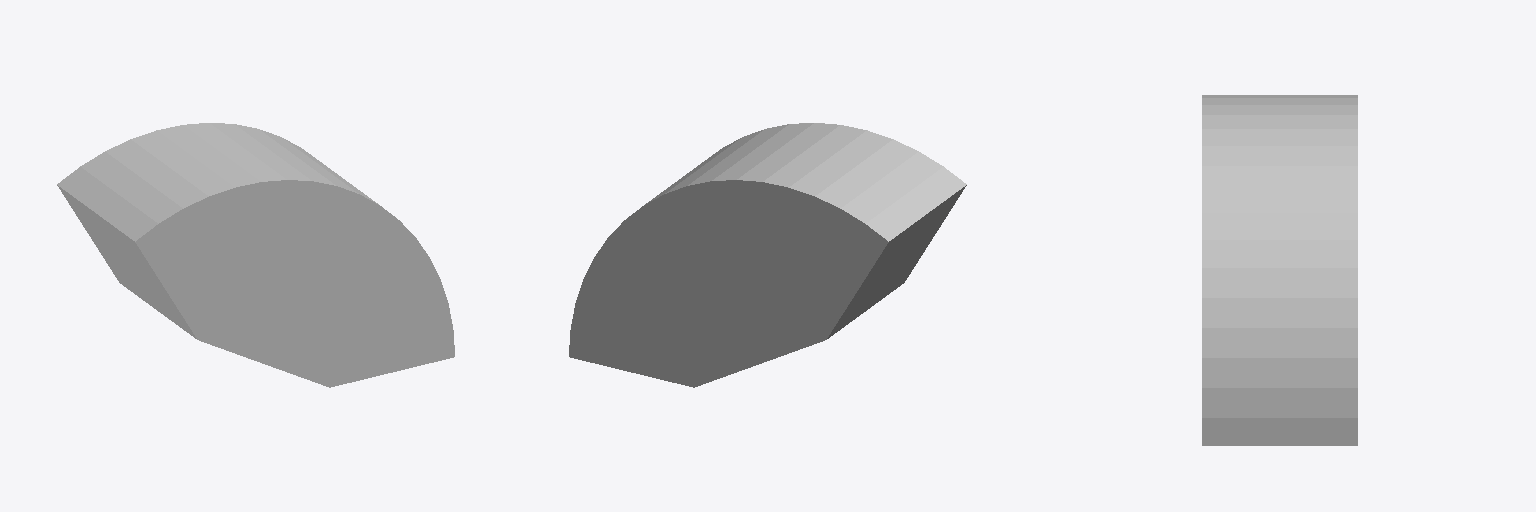
Rendered from round_triangle_hole_2.obj.
3 renders of one model, left to right at view 1: azimuth 30°, elevation 25°; view 2: azimuth 150°, elevation 25°; view 3: azimuth 270°, elevation 25°, orthographic.
Visible parts, largest first — view 1: Body131; view 2: Body131; view 3: Body131.
Boxes of the visible parts, x1,y1,x2,y2 form: Body131: [57, 123, 454, 387]; Body131: [569, 123, 966, 387]; Body131: [1202, 95, 1357, 445].
Size of the model in its own units: 0.0945 by 0.063 by 0.04.